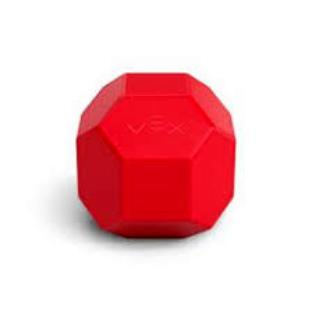V5_RED: (77, 72, 234, 235), (77, 74, 234, 235)
